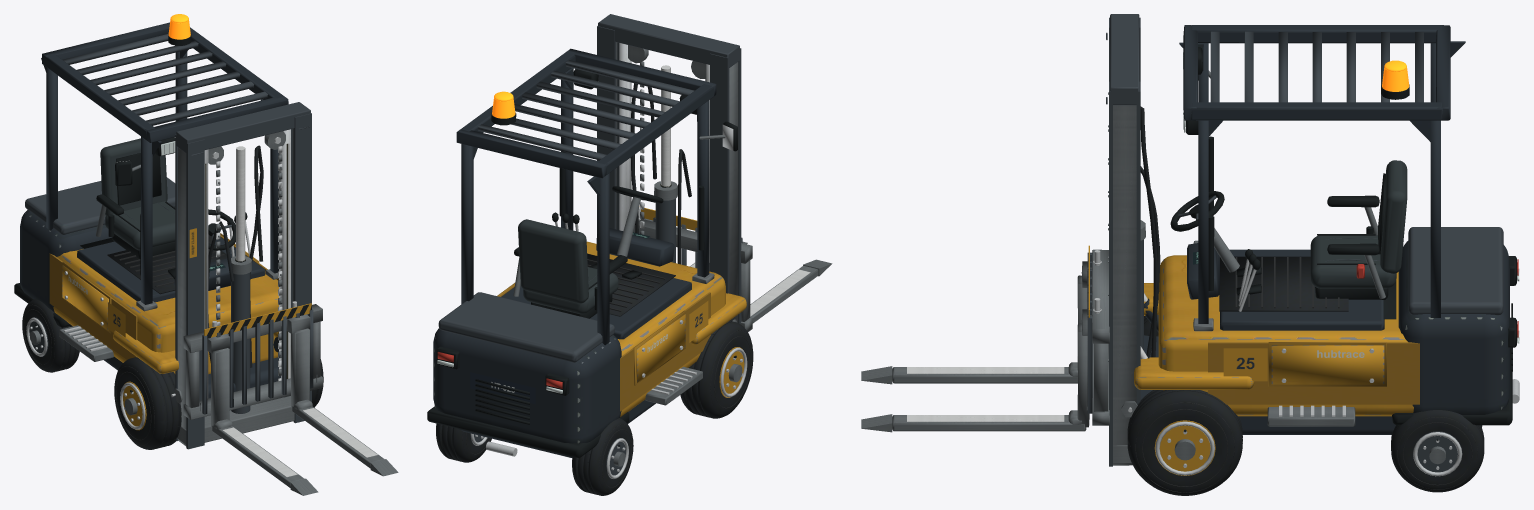
File: forklift.glb
3 views of the same model, side by side, from view 1: azimuth 30°, elevation 25°; view 2: azimuth 150°, elevation 25°; view 3: azimuth 270°, elevation 25° (orthographic). The views are drawn at different scales.
Visible parts, largest first — view 1: hubtrace_Forklift_2p5t_equipment_charcoal_highlight, hubtrace_Forklift_2p5t_equipment_charcoal_enamel, carriage_equipment_burnished_steel, hubtrace_Forklift_2p5t_equipment_contact_worn_ochre, hubtrace_Forklift_2p5t_equipment_burnished_steel, hubtrace_Forklift_2p5t_equipment_dark_polymer, front_left_wheel_equipment_tyre_rubber, hubtrace_Forklift_2p5t_equipment_vinyl_upholstery, hubtrace_Forklift_2p5t_forklift_cast_counterweight_finish, hubtrace_Forklift_2p5t_equipment_brushed_steel, carriage_equipment_charcoal_highlight, hubtrace_Forklift_2p5t_equipment_tyre_rubber (+11 smaller); view 2: hubtrace_Forklift_2p5t_equipment_charcoal_highlight, hubtrace_Forklift_2p5t_equipment_charcoal_enamel, hubtrace_Forklift_2p5t_forklift_cast_counterweight_finish, hubtrace_Forklift_2p5t_equipment_dark_polymer, hubtrace_Forklift_2p5t_equipment_vinyl_upholstery, hubtrace_Forklift_2p5t_equipment_contact_worn_ochre, hubtrace_Forklift_2p5t_equipment_burnished_steel, front_left_wheel_equipment_tyre_rubber, hubtrace_Forklift_2p5t_equipment_tyre_rubber, hubtrace_Forklift_2p5t_equipment_brushed_steel, hubtrace_Forklift_2p5t_equipment_panel_edge, carriage_equipment_burnished_steel (+9 smaller); view 3: hubtrace_Forklift_2p5t_equipment_charcoal_enamel, hubtrace_Forklift_2p5t_equipment_charcoal_highlight, hubtrace_Forklift_2p5t_equipment_contact_worn_ochre, hubtrace_Forklift_2p5t_equipment_burnished_steel, hubtrace_Forklift_2p5t_forklift_cast_counterweight_finish, carriage_equipment_burnished_steel, front_right_wheel_equipment_tyre_rubber, hubtrace_Forklift_2p5t_equipment_dark_polymer, hubtrace_Forklift_2p5t_equipment_panel_edge, hubtrace_Forklift_2p5t_equipment_tyre_rubber, hubtrace_Forklift_2p5t_equipment_vinyl_upholstery, rear_right_steering_wheel_equipment_tyre_rubber (+9 smaller).
Part boxes in pixels (x1,y1,x2,y2): hubtrace_Forklift_2p5t_equipment_charcoal_highlight: [25, 34, 311, 449]; hubtrace_Forklift_2p5t_equipment_charcoal_enamel: [41, 22, 288, 398]; carriage_equipment_burnished_steel: [183, 304, 398, 495]; hubtrace_Forklift_2p5t_equipment_contact_worn_ochre: [53, 249, 278, 374]; hubtrace_Forklift_2p5t_equipment_burnished_steel: [59, 128, 294, 446]; hubtrace_Forklift_2p5t_equipment_dark_polymer: [14, 33, 247, 327]; front_left_wheel_equipment_tyre_rubber: [114, 357, 181, 449]; hubtrace_Forklift_2p5t_equipment_vinyl_upholstery: [100, 138, 175, 250]; hubtrace_Forklift_2p5t_forklift_cast_counterweight_finish: [20, 207, 175, 312]; hubtrace_Forklift_2p5t_equipment_brushed_steel: [64, 129, 290, 398]; carriage_equipment_charcoal_highlight: [202, 309, 313, 414]; hubtrace_Forklift_2p5t_equipment_tyre_rubber: [107, 145, 263, 367]; hubtrace_Forklift_2p5t_equipment_charcoal_highlight: [438, 14, 741, 362]; hubtrace_Forklift_2p5t_equipment_charcoal_enamel: [456, 48, 716, 458]; hubtrace_Forklift_2p5t_forklift_cast_counterweight_finish: [433, 328, 621, 443]; hubtrace_Forklift_2p5t_equipment_dark_polymer: [427, 69, 737, 457]; hubtrace_Forklift_2p5t_equipment_vinyl_upholstery: [518, 219, 618, 314]; hubtrace_Forklift_2p5t_equipment_contact_worn_ochre: [586, 241, 746, 416]; hubtrace_Forklift_2p5t_equipment_burnished_steel: [513, 42, 738, 405]; front_left_wheel_equipment_tyre_rubber: [680, 320, 752, 418]; hubtrace_Forklift_2p5t_equipment_tyre_rubber: [587, 83, 691, 316]; hubtrace_Forklift_2p5t_equipment_brushed_steel: [486, 43, 733, 456]; hubtrace_Forklift_2p5t_equipment_panel_edge: [497, 283, 710, 411]; carriage_equipment_burnished_steel: [633, 218, 832, 331]; hubtrace_Forklift_2p5t_equipment_charcoal_enamel: [1140, 25, 1482, 434]; hubtrace_Forklift_2p5t_equipment_charcoal_highlight: [1106, 14, 1503, 466]; hubtrace_Forklift_2p5t_equipment_contact_worn_ochre: [1134, 255, 1413, 416]; hubtrace_Forklift_2p5t_equipment_burnished_steel: [1108, 70, 1385, 465]; hubtrace_Forklift_2p5t_forklift_cast_counterweight_finish: [1398, 241, 1509, 414]; carriage_equipment_burnished_steel: [861, 249, 1109, 432]; front_right_wheel_equipment_tyre_rubber: [1127, 390, 1242, 495]; hubtrace_Forklift_2p5t_equipment_dark_polymer: [1170, 47, 1516, 425]; hubtrace_Forklift_2p5t_equipment_panel_edge: [1208, 342, 1419, 404]; hubtrace_Forklift_2p5t_equipment_tyre_rubber: [1140, 106, 1348, 357]; hubtrace_Forklift_2p5t_equipment_vinyl_upholstery: [1310, 160, 1407, 288]; rear_right_steering_wheel_equipment_tyre_rubber: [1391, 410, 1484, 492].
Size of the model in its own units: 1.45 by 2.5 by 3.6.
Materials: 23 (23 with a texture image).
